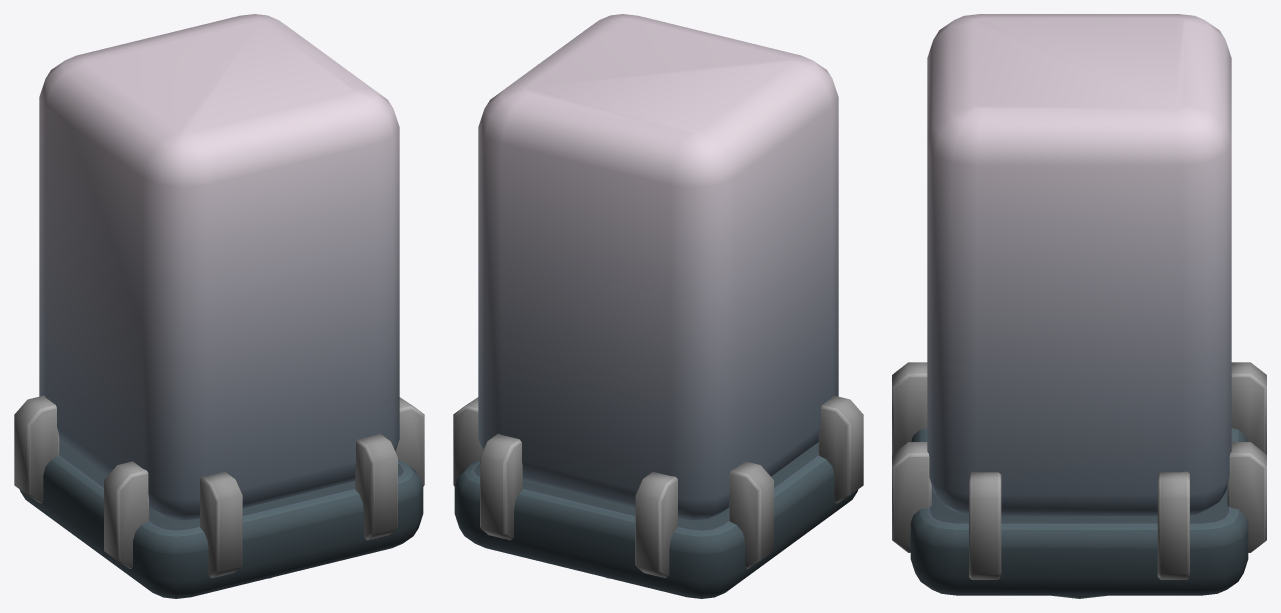
Rendered from sp_food_grower_can_cabbage.fbx.
3 views of the same model, side by side, from view 1: azimuth 30°, elevation 25°; view 2: azimuth 150°, elevation 25°; view 3: azimuth 270°, elevation 25° (orthographic). The views are drawn at different scales.
Parts seen in each view (by area): view 1: food_canister_cabbage; view 2: food_canister_cabbage; view 3: food_canister_cabbage.
Boxes of the visible parts, x1,y1,x2,y2 form: food_canister_cabbage: (14,14,424,598); food_canister_cabbage: (453,14,863,598); food_canister_cabbage: (892,14,1266,598).
Bounding box in the file's own units: 52.23 × 78.42 × 52.23.
